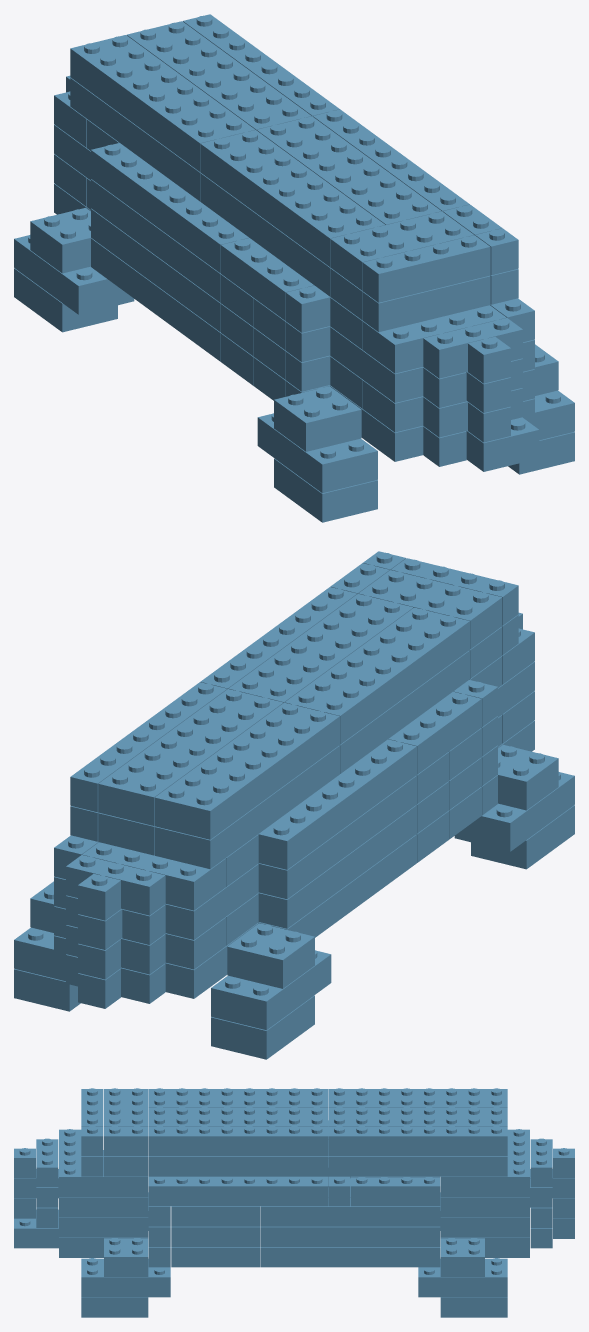
File: 111_bus_L1.glb
The picture shows the model from 3 angles, top to bottom: view 1: azimuth 30°, elevation 25°; view 2: azimuth 150°, elevation 25°; view 3: azimuth 270°, elevation 25°; orthographic projection. The views are drawn at different scales.
Size of the model in its own units: 8.98 by 8.13 by 24.98.
